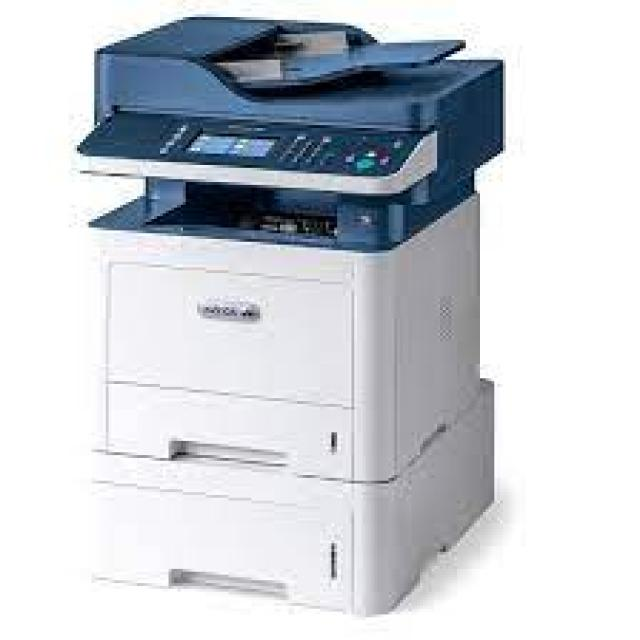printer: (50, 4, 522, 624)
